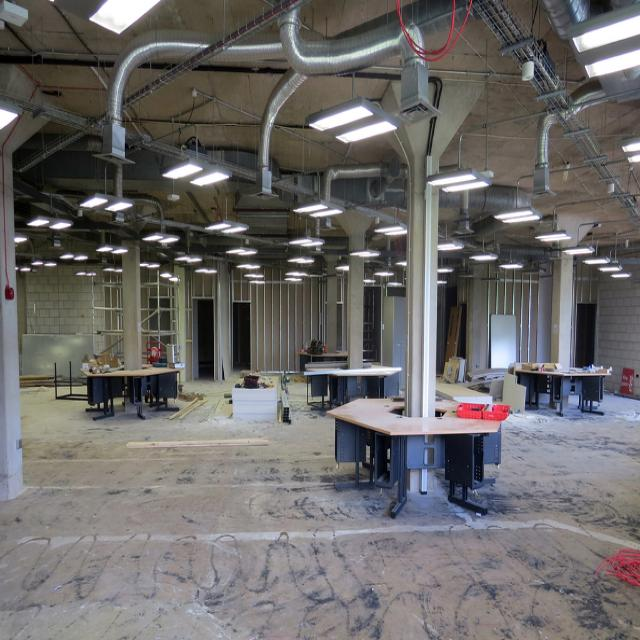desk: (340, 395, 509, 512)
